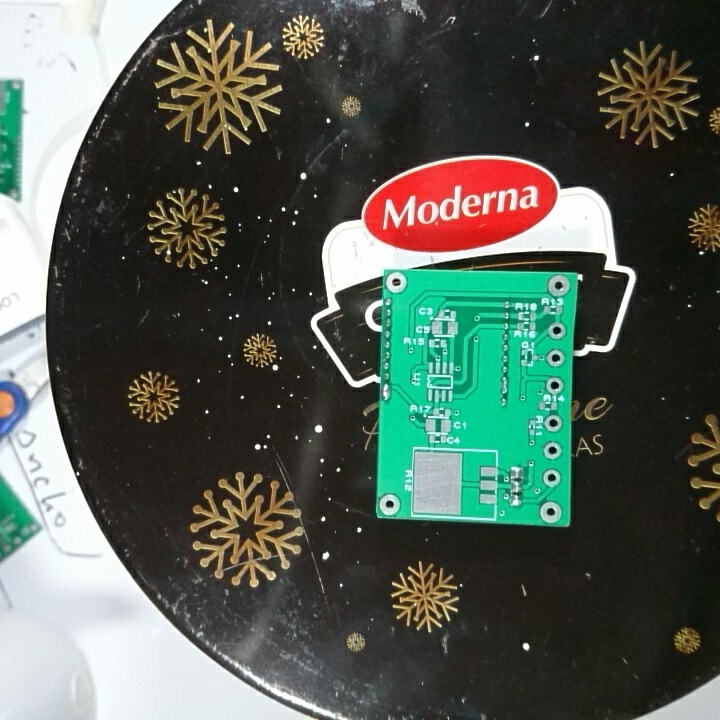F: (383, 270, 411, 298), (546, 272, 572, 300), (377, 489, 402, 518), (537, 499, 564, 525), (544, 345, 568, 369), (545, 320, 569, 343), (539, 466, 563, 489), (541, 440, 565, 462), (542, 410, 562, 435), (544, 375, 565, 397)
P: (380, 383, 393, 404), (499, 375, 511, 395)
